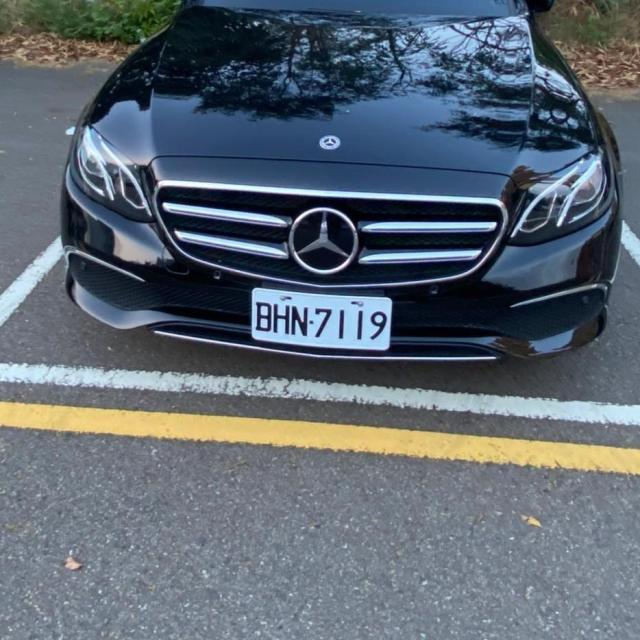W: (249, 286, 394, 355)
